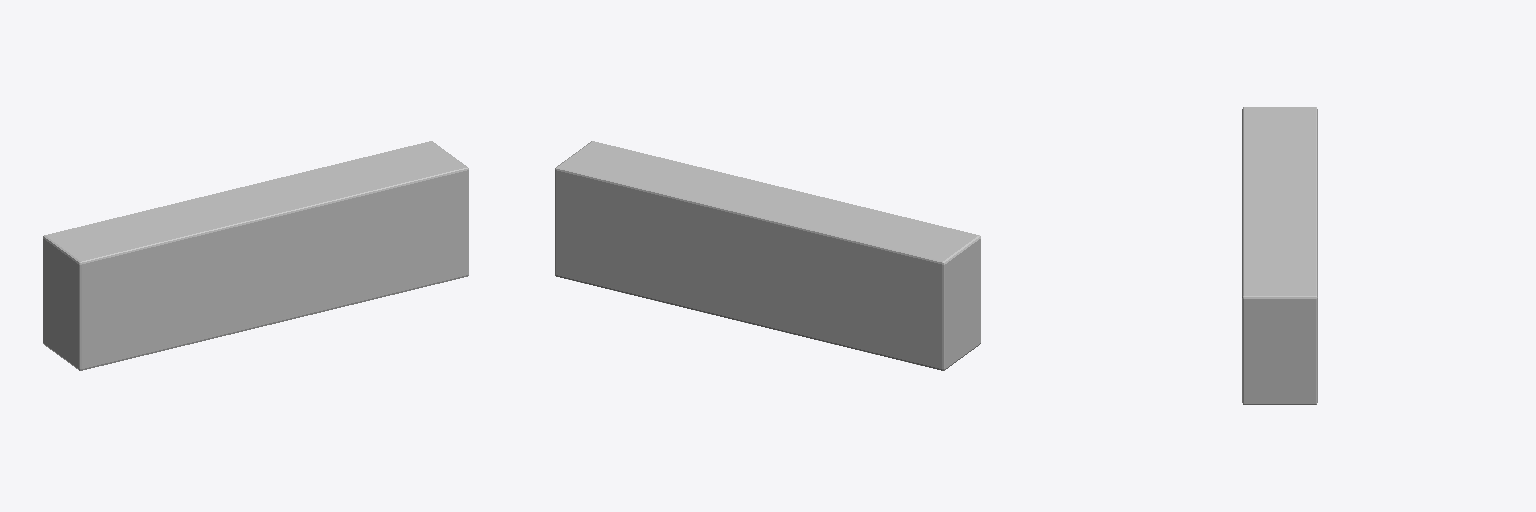
File: table_int.obj
3 renders of one model, left to right at view 1: azimuth 30°, elevation 25°; view 2: azimuth 150°, elevation 25°; view 3: azimuth 270°, elevation 25°, orthographic.
Visible parts, largest first — view 1: Cube.001_Cube.018; view 2: Cube.001_Cube.018; view 3: Cube.001_Cube.018.
Part boxes in pixels (x1,y1,x2,y2): Cube.001_Cube.018: (43,141,468,370); Cube.001_Cube.018: (555,141,980,370); Cube.001_Cube.018: (1242,107,1317,404).
Bounding box in the file's own units: 7.47 × 2 × 1.25.